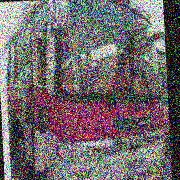bus: (2, 0, 170, 180)
